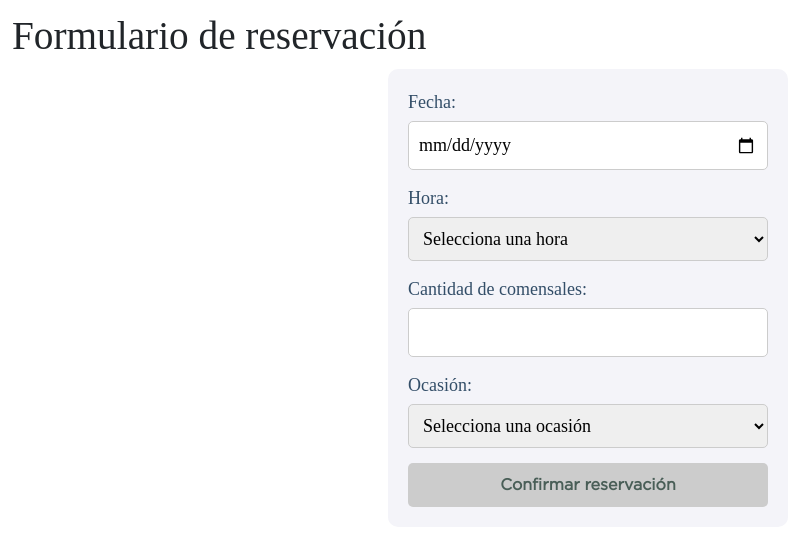
BookingForm › enables submit button when form is valid
This screenshot has width=805, height=544.
In the date field labelled "Fecha:": (588, 146) left=408, top=121, right=768, bottom=170, type "2024-12-31"
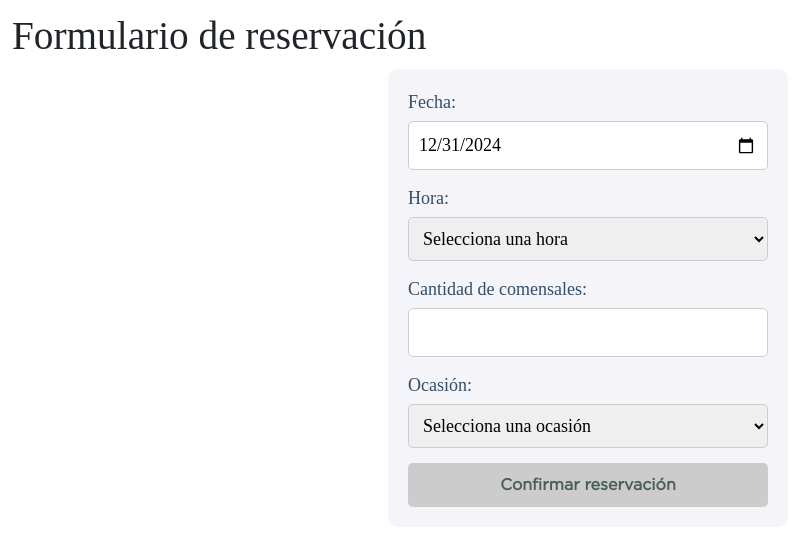
Select "12:00" in the dropdown labelled "Hora:": (588, 239) left=408, top=217, right=768, bottom=261
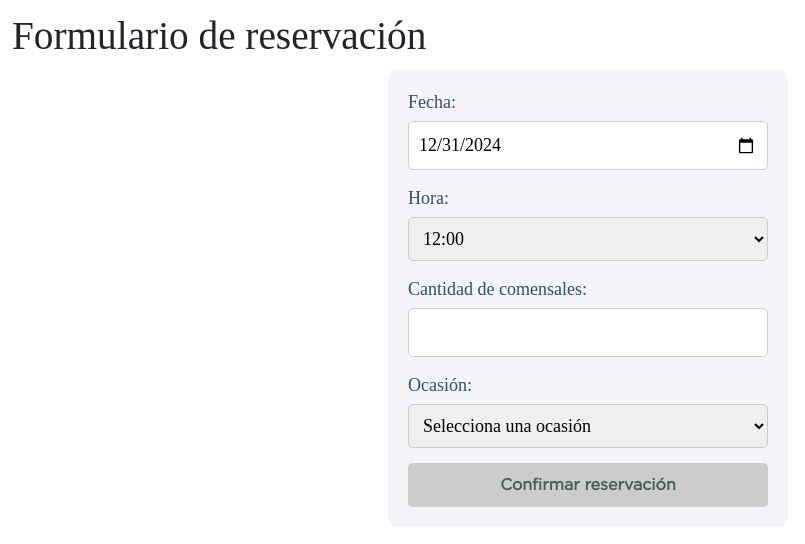
In the number field labelled "Cantidad de comensales:": (588, 333) left=408, top=308, right=768, bottom=357, type "4"
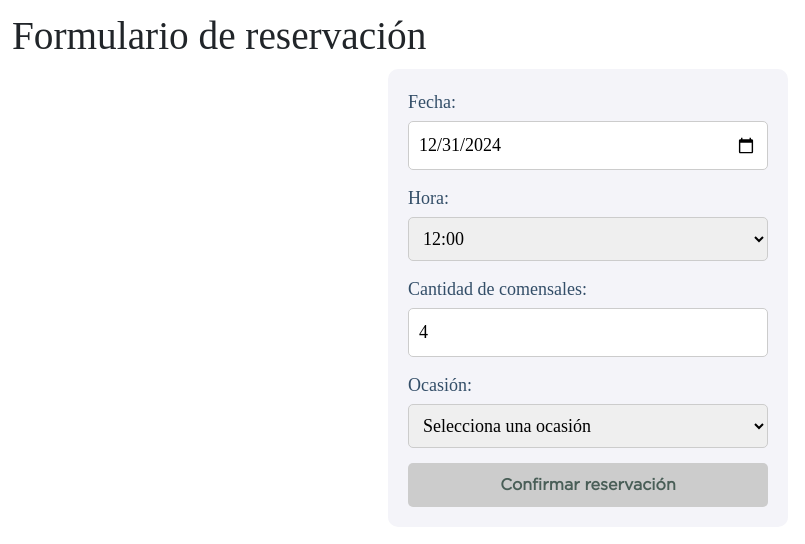
Select "Cumpleaños" in the dropdown labelled "Ocasión:": (588, 426) left=408, top=404, right=768, bottom=448
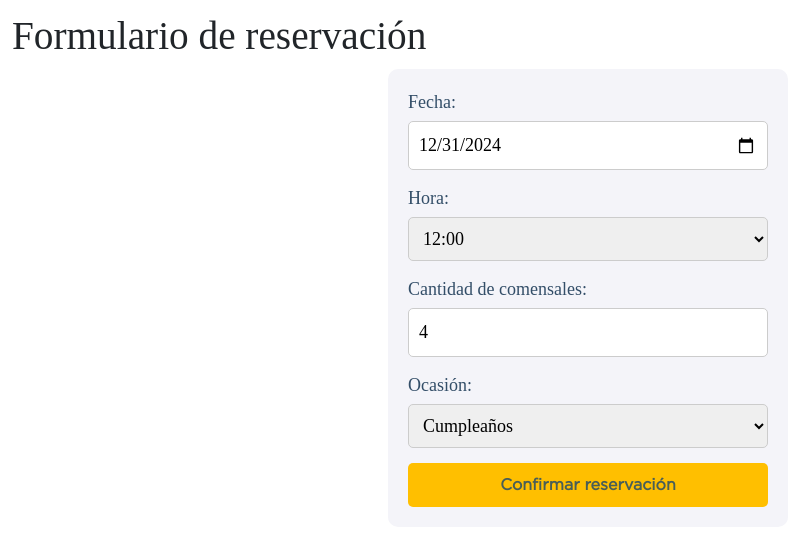
Check: the button "Confirmar reservación" is enabled, box left=408, top=463, right=768, bottom=507
